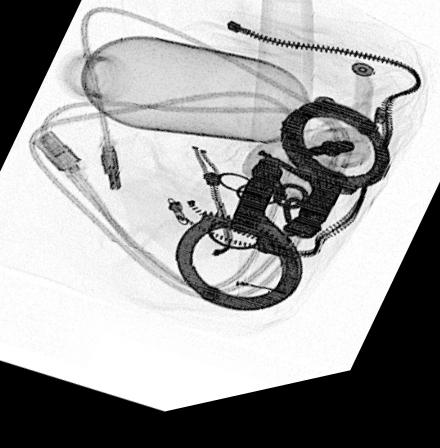HandCuffs: (174, 110, 391, 322)
